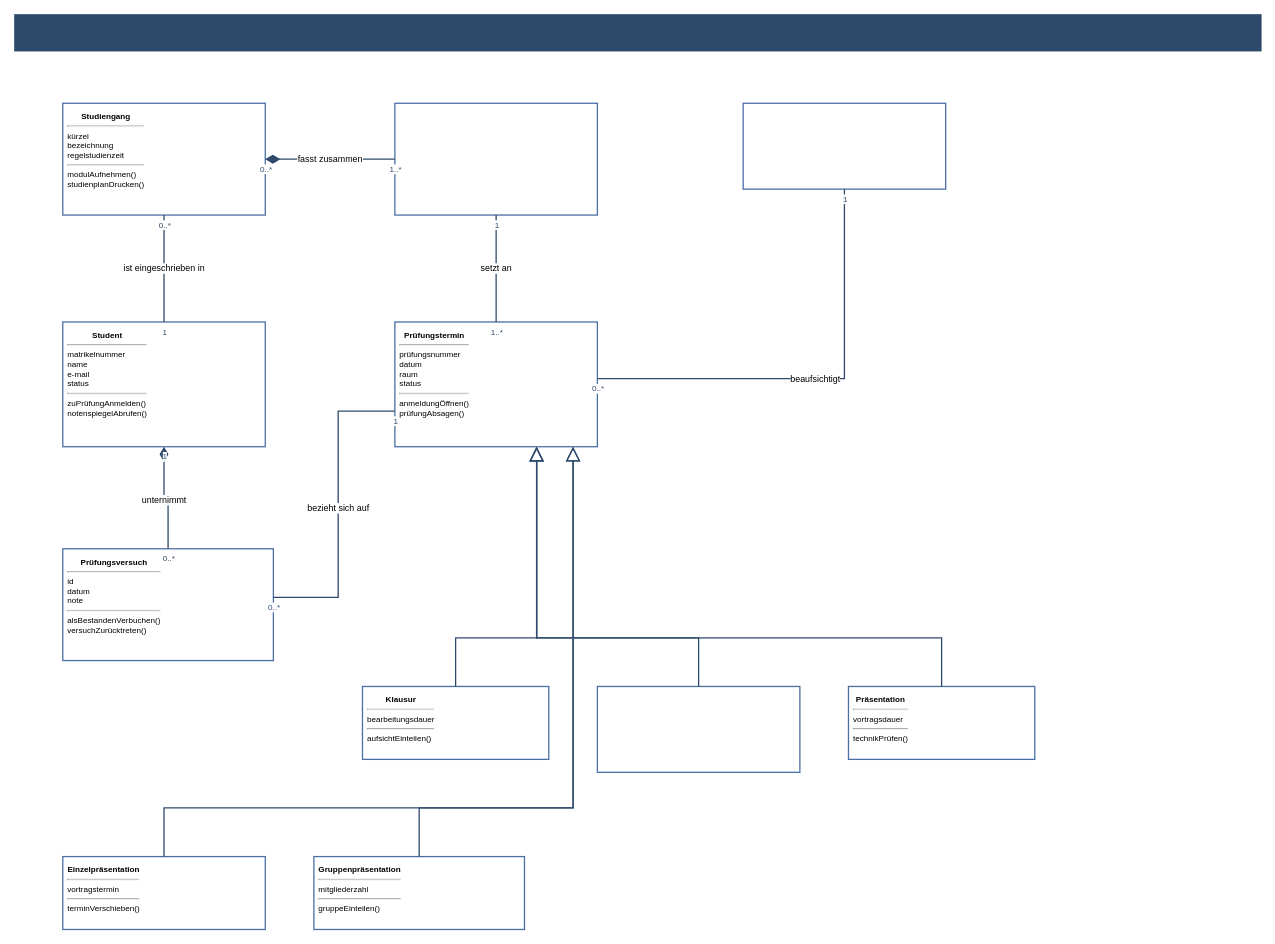
This 1275x944 diagram has some shape labels left out. The centre of each missing label's shape, as x and y in pixels:
Dozent personalnummer name noteEintragen(): [844,145]
Modellentwurf eines KI-Werkzeugs zum Szenario: [637,32]
Modul modulnummer titel credits beschreibung prüfungAnsetzen(): [496,158]
MündlichePrüfung dauer beisitzer protokollAnlegen(): [698,729]
